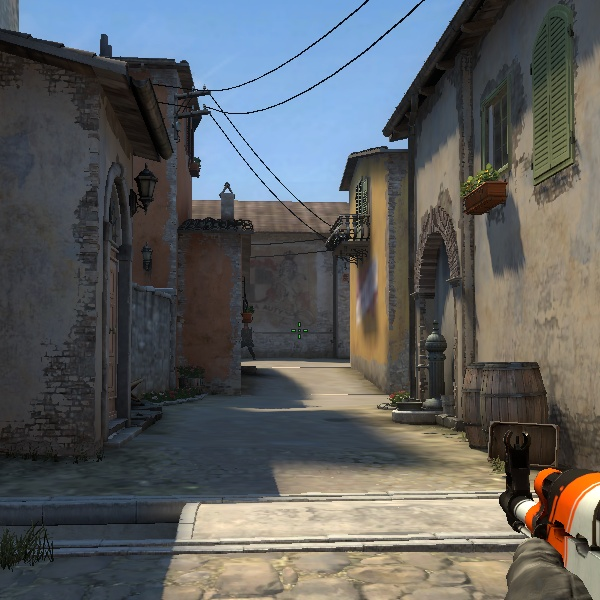t_body: (233, 298, 259, 371)
